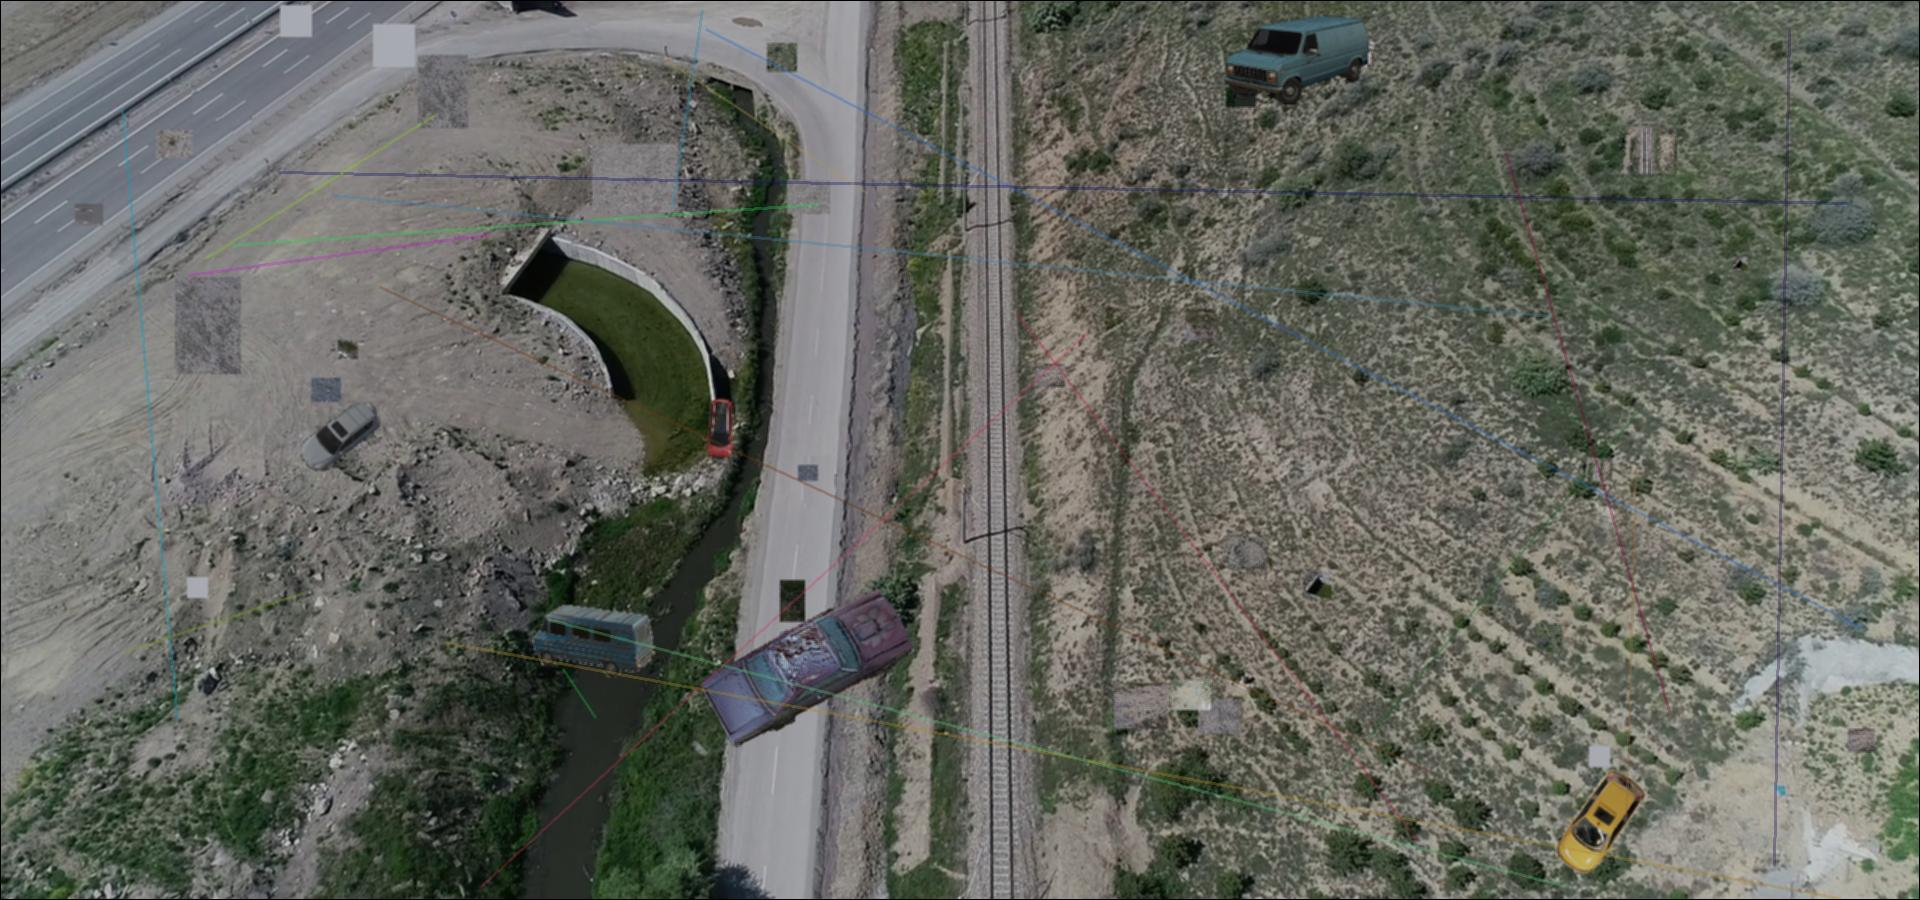arac: (703, 580, 915, 747), (1223, 10, 1369, 107), (1553, 768, 1649, 876), (530, 602, 658, 677), (298, 403, 380, 471), (704, 398, 735, 462)
